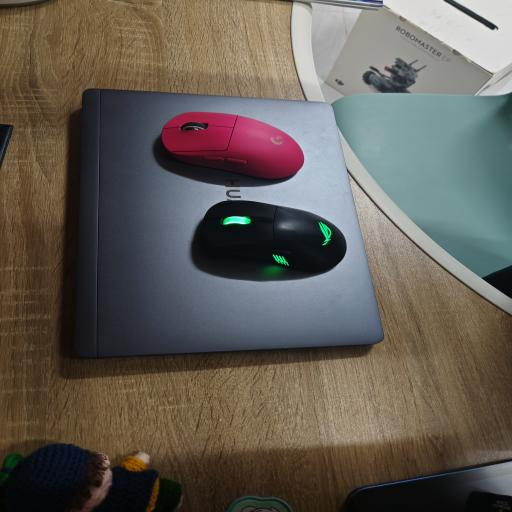laptop: (72, 87, 385, 361)
mouse: (202, 200, 346, 272), (162, 112, 304, 178)
